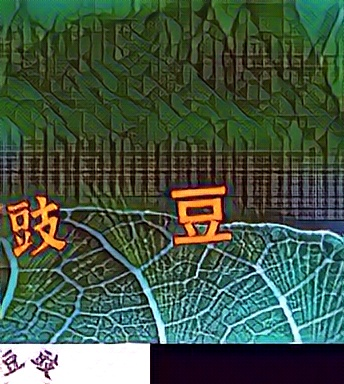B6B9: (168, 181, 235, 245)
F4F9: (4, 192, 71, 256)
